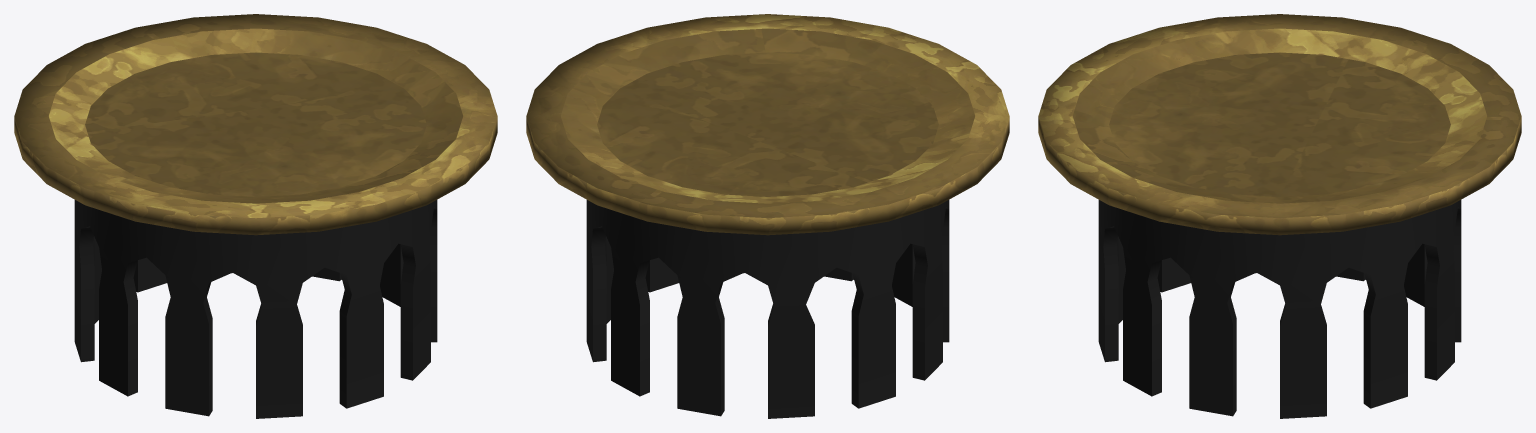
Rendered from DI_028_table.glb.
The picture shows the model from 3 angles, left to right: view 1: azimuth 30°, elevation 25°; view 2: azimuth 150°, elevation 25°; view 3: azimuth 270°, elevation 25°; orthographic projection.
Parts seen in each view (by area): view 1: TableTop, Feet; view 2: TableTop, Feet; view 3: TableTop, Feet.
Part boxes in pixels (x1,y1,x2,y2): TableTop: (14, 14, 497, 235); Feet: (74, 200, 437, 418); TableTop: (526, 14, 1009, 235); Feet: (586, 200, 949, 418); TableTop: (1038, 14, 1521, 235); Feet: (1098, 200, 1461, 418).
Bounding box in the file's own units: 1.5 × 0.7752 × 1.5.
Materials: 2 (1 with a texture image).
